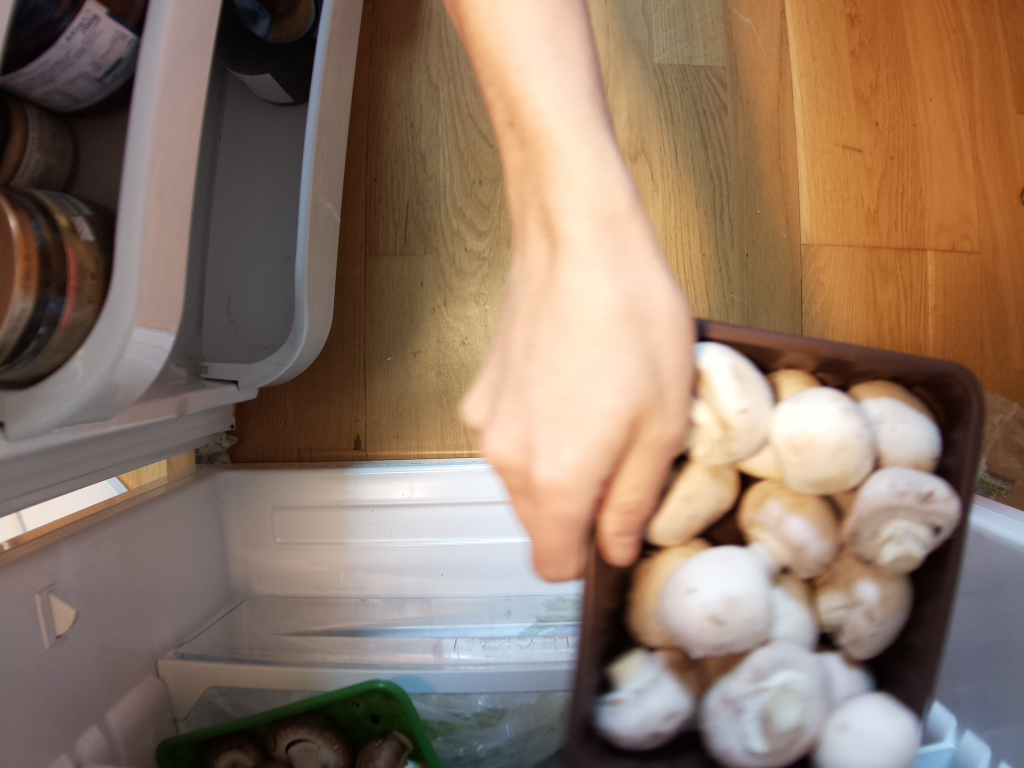mushrooms: (594, 318, 978, 768)
